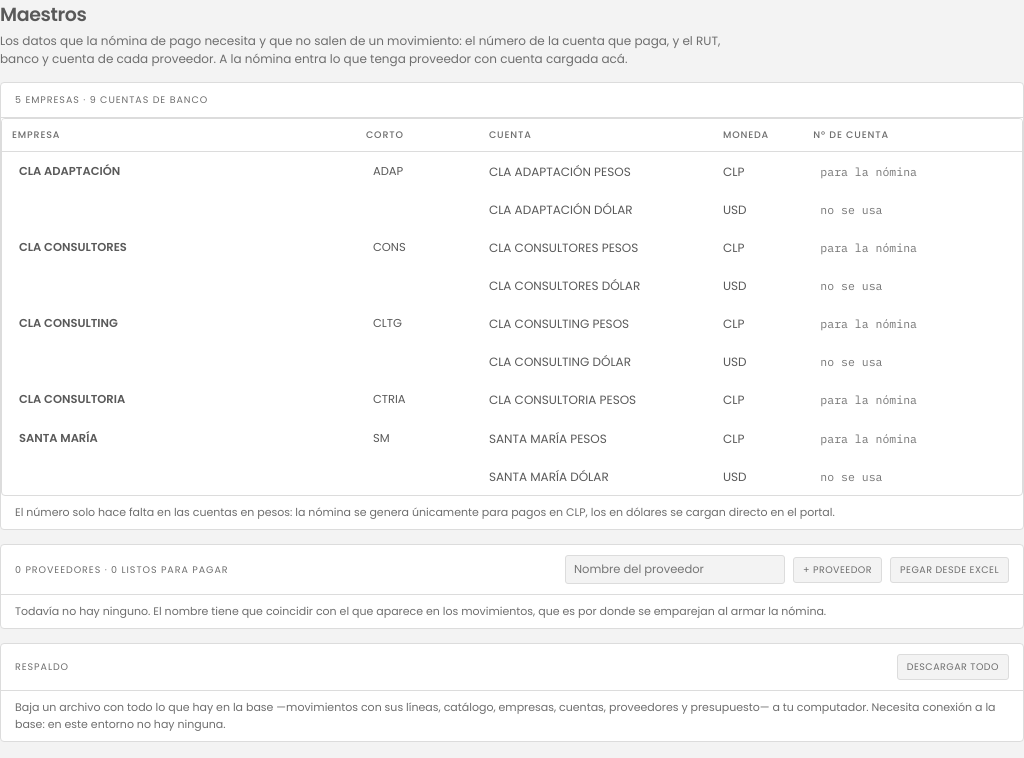
Test: Maestros › el RUT se muestra con formato pero se guarda como lo pide el portal
The width and height of the screenshot is (1024, 758).
In the field named "Nombre del proveedor nuevo": (675, 570) [565,555,785,584], type "Smartbricks Technologies SPA"
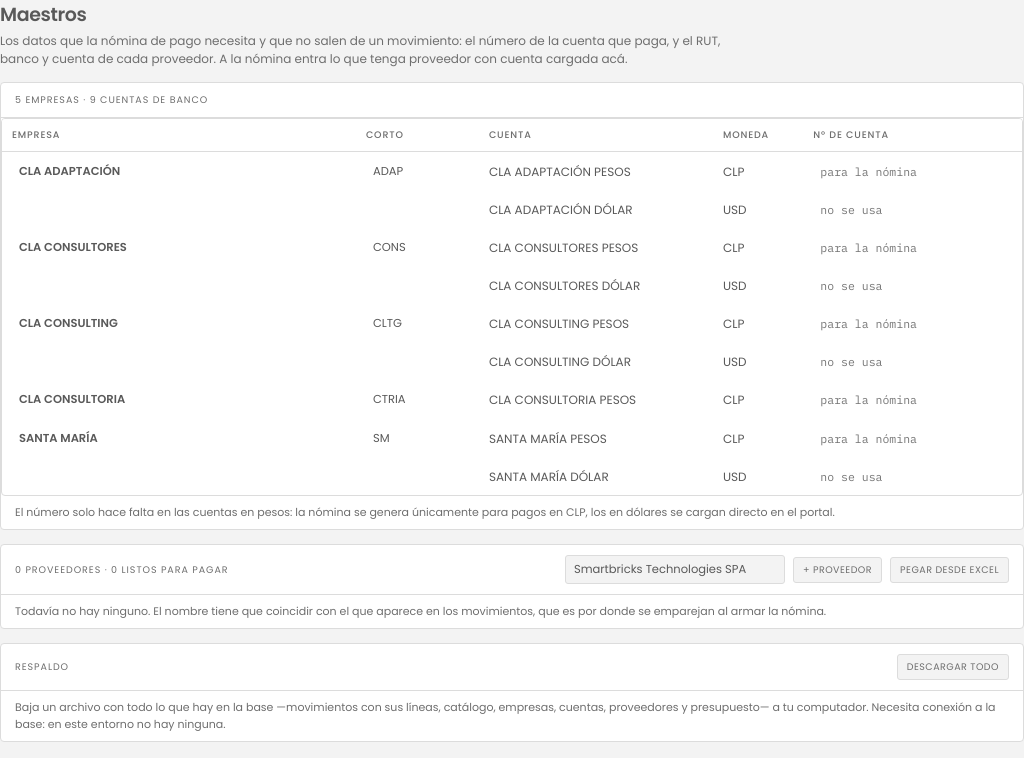
Click the button "+ proveedor": click(837, 570) [793,556,882,582]
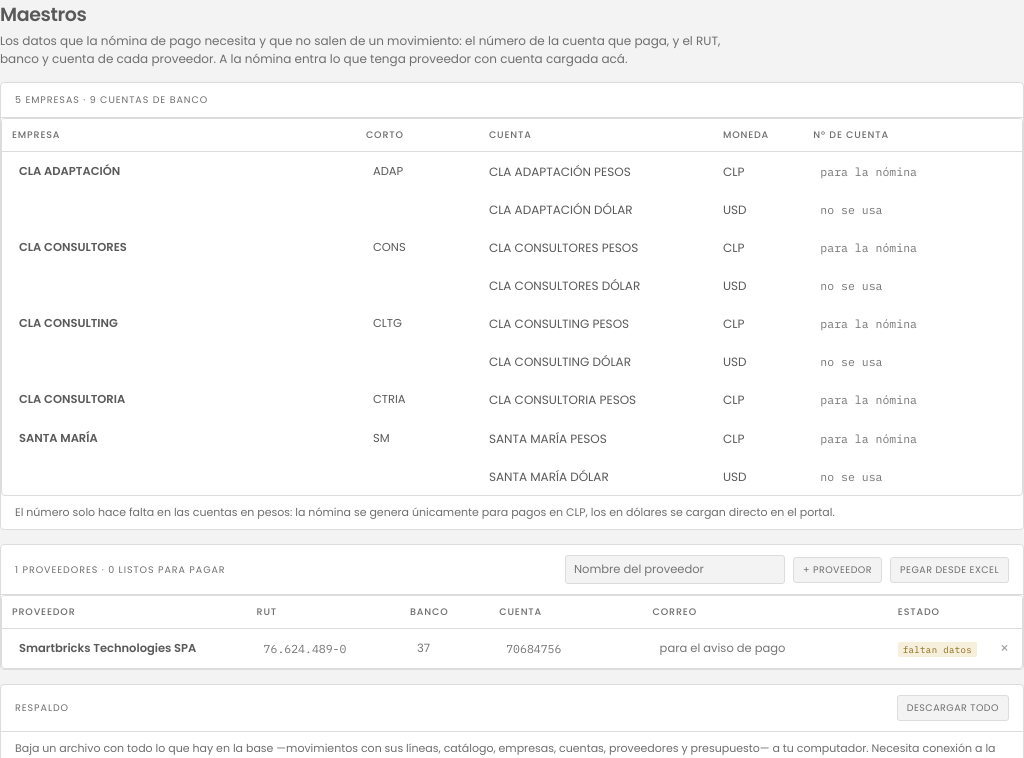
In the field named "RUT de Smartbricks Technologies SPA": (323, 648) [257,636,390,661], type "766244890"
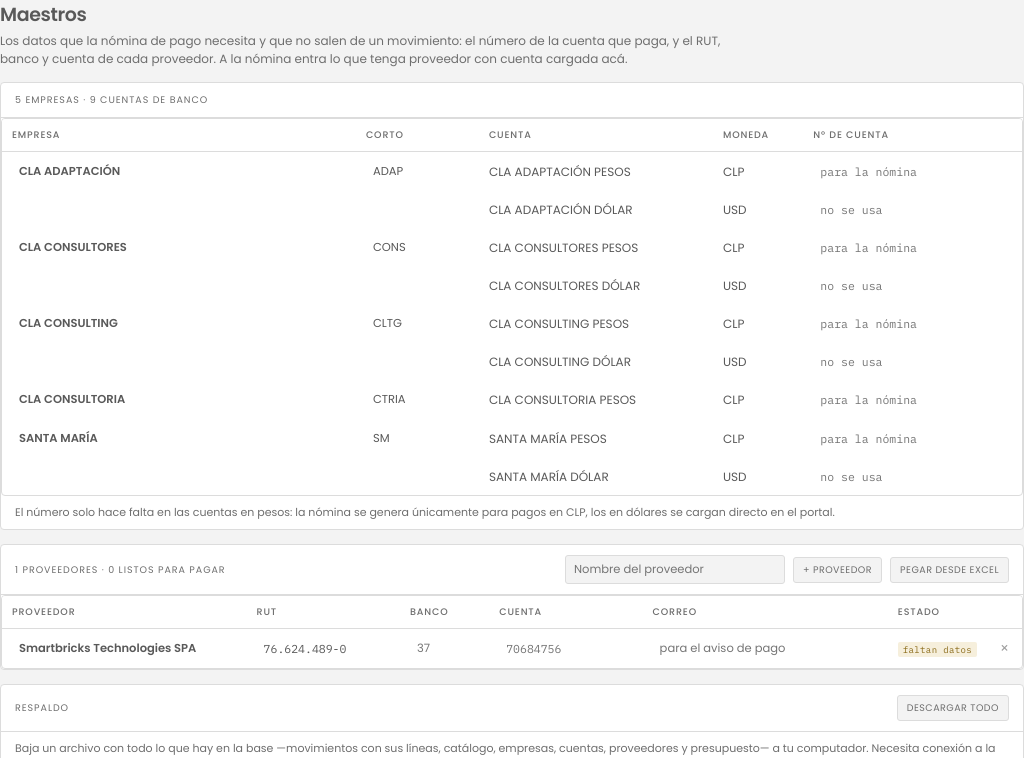
Check: the field named "RUT de Smartbricks Technologies SPA" holds "76.624.489-0", box [257,636,390,661]
